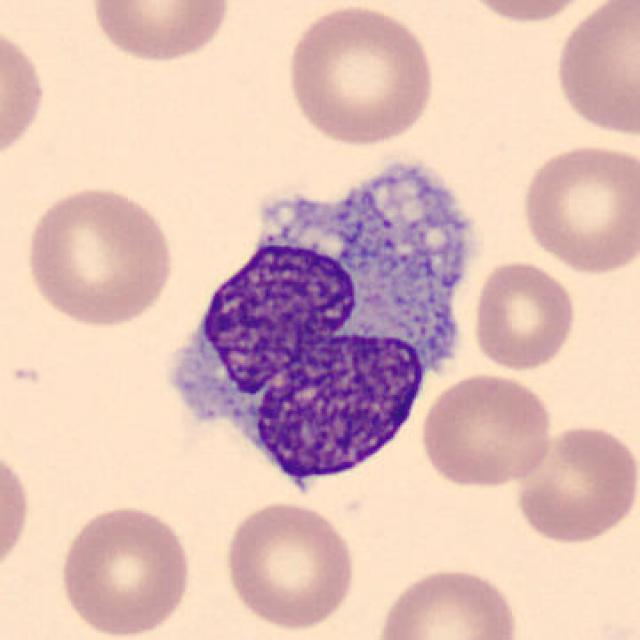Monocyte: (151, 152, 480, 504)
RBC: (22, 182, 180, 330), (281, 0, 439, 148), (55, 500, 195, 640), (221, 497, 359, 633), (416, 370, 556, 492), (518, 139, 638, 277), (510, 419, 638, 546), (470, 257, 580, 374), (549, 0, 638, 139), (372, 562, 522, 640), (85, 0, 235, 67), (0, 18, 50, 171), (0, 441, 34, 584), (451, 0, 606, 26)
